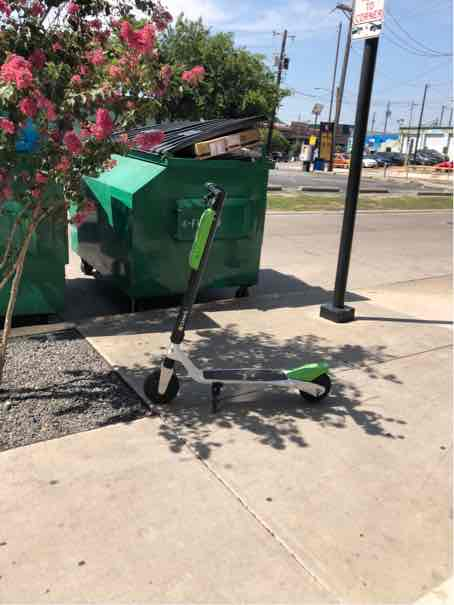scooter: (138, 167, 348, 413)
